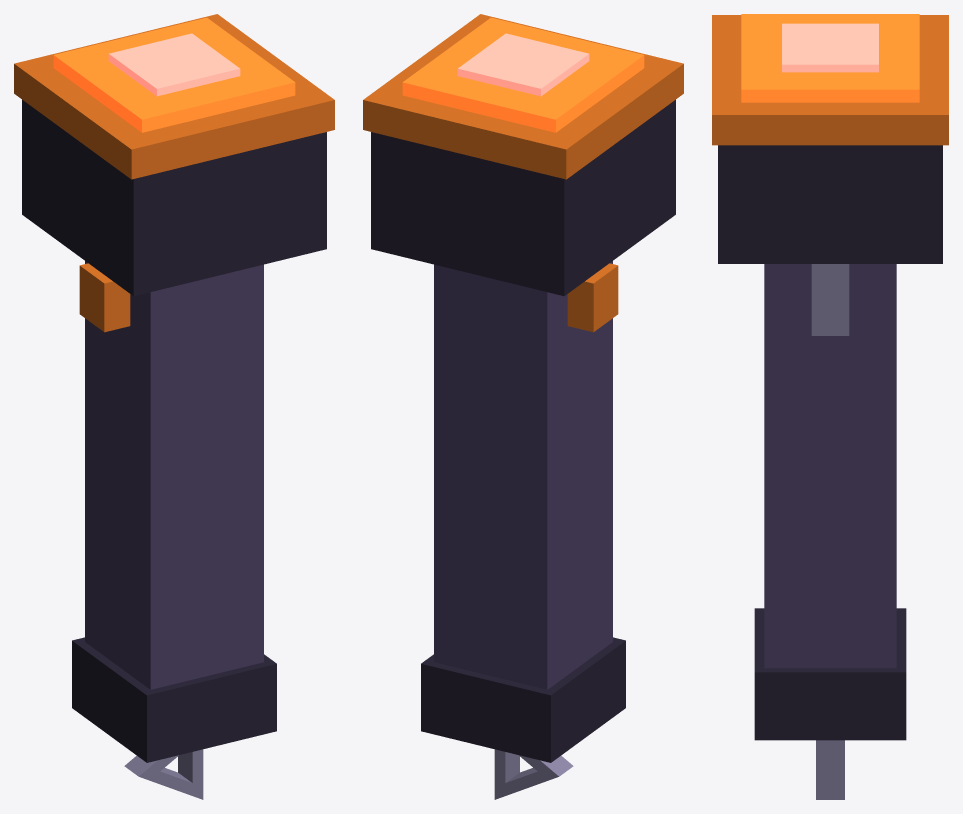
The model's file is flashlight.lod1.glb.
3 renders of one model, left to right at view 1: azimuth 30°, elevation 25°; view 2: azimuth 150°, elevation 25°; view 3: azimuth 270°, elevation 25°, orthographic.
Parts seen in each view (by area): view 1: item.flashlight.body; view 2: item.flashlight.body; view 3: item.flashlight.body.
Part boxes in pixels (box(x1,y1,x2,y2)): item.flashlight.body: box(14, 14, 334, 799); item.flashlight.body: box(363, 14, 683, 799); item.flashlight.body: box(712, 14, 948, 799).
Size of the model in its own units: 0.1773 by 0.6153 by 0.1773.
